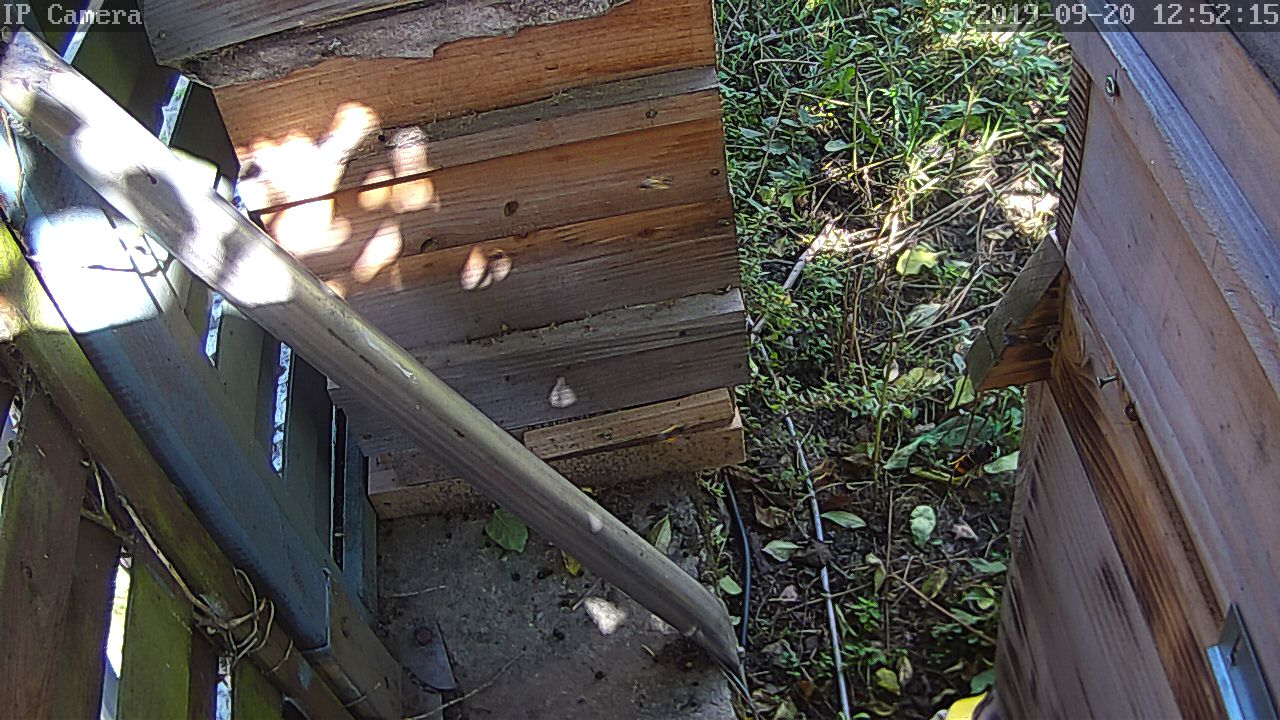bee: (1123, 400, 1138, 426)
hornet: (947, 436, 1003, 483)
